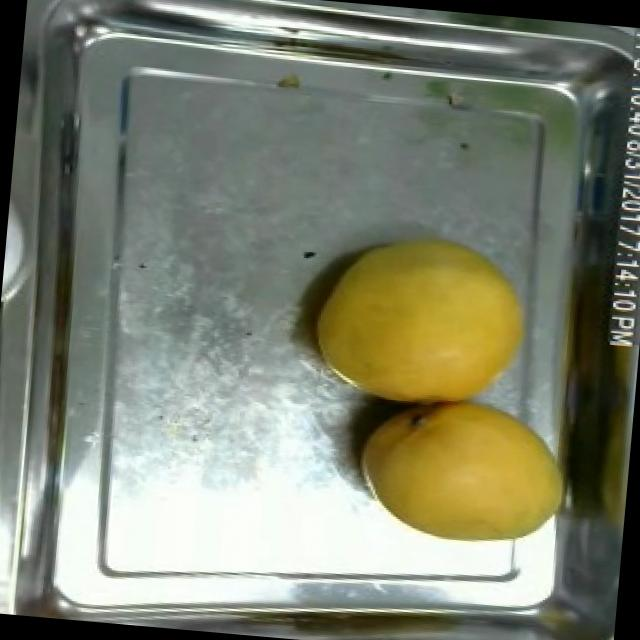fruit: (294, 212, 544, 430), (341, 378, 582, 560)
